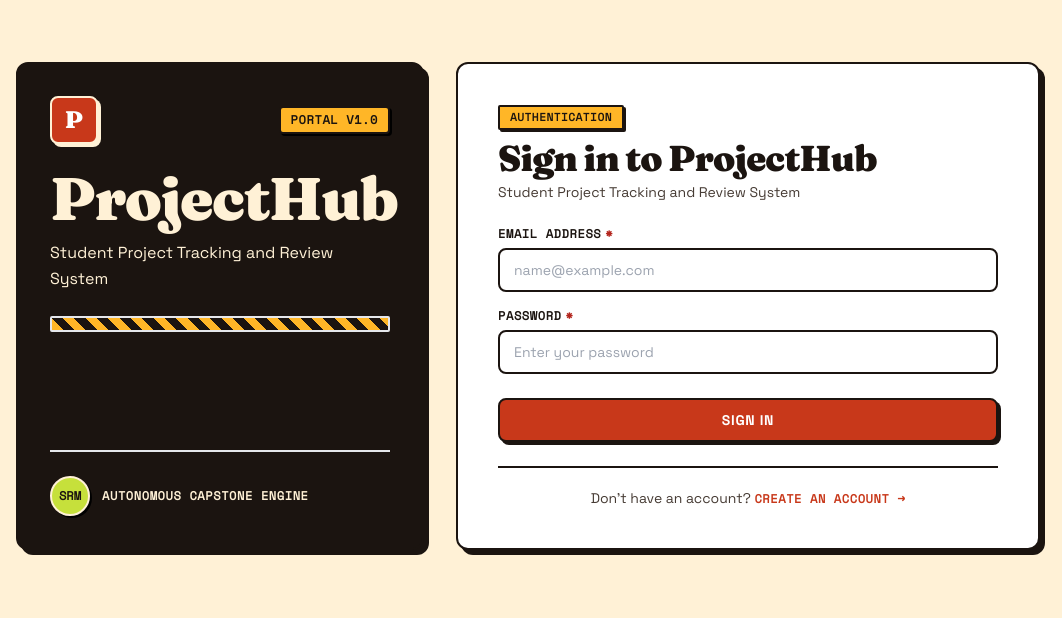
Test case: Auth Forms Validation and Submission › LoginPage › submits valid credentials and handles API authentication failure
This screenshot has width=1062, height=618.
Step 1. Type "user@demo.projecthub.test" into the field labelled "Email address*" → {"x": 748, "y": 270}, box [498,248,998,292]
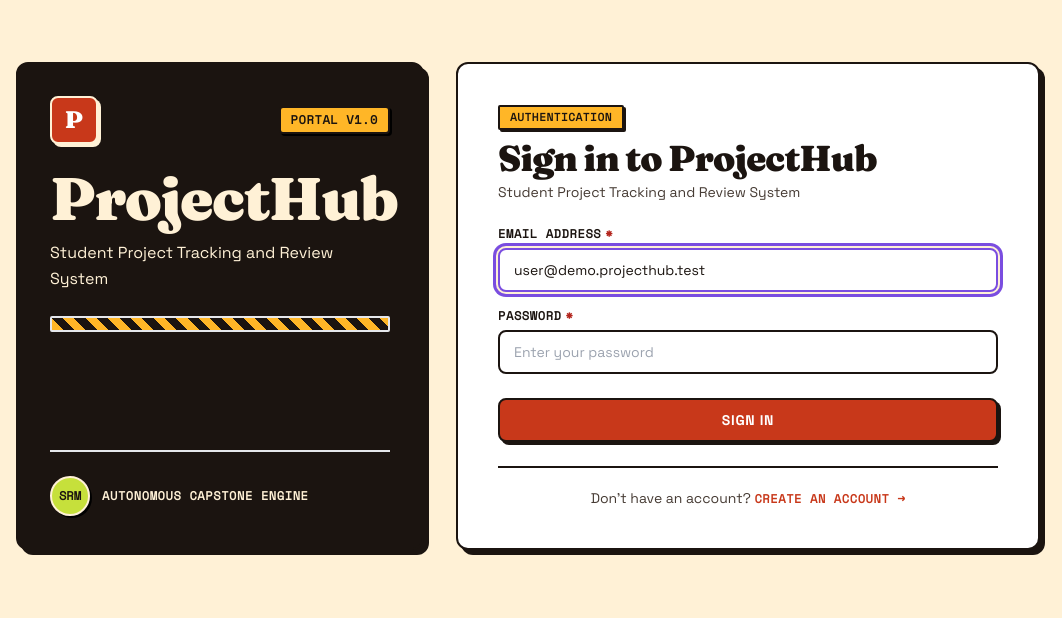
Step 2. Type "wrongpassword" into the password field labelled "Password*" → {"x": 748, "y": 352}, box [498,330,998,374]
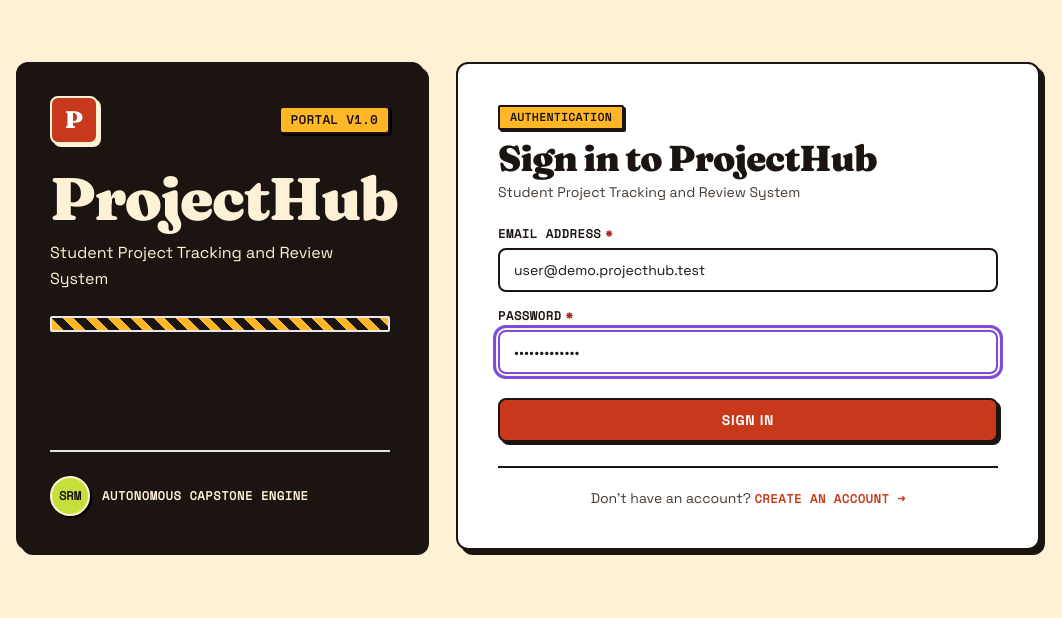
Step 3. Click the button "Sign in" → {"x": 748, "y": 420}, box [498,398,998,442]
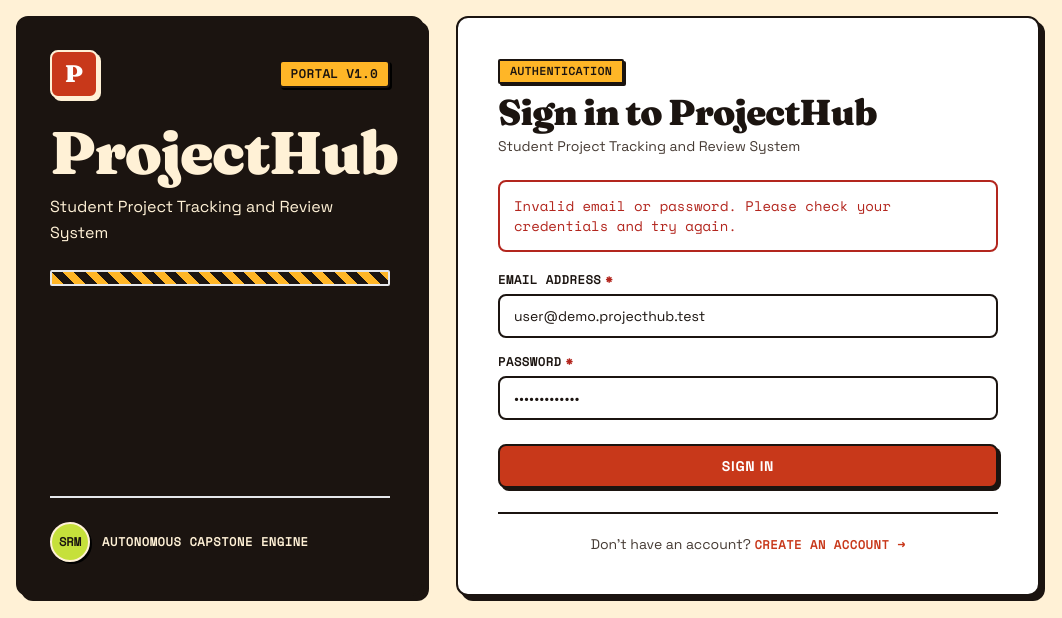
Check: the text "Invalid email or password. Please check your credentials and try again." is shown, box [498,180,998,252]
